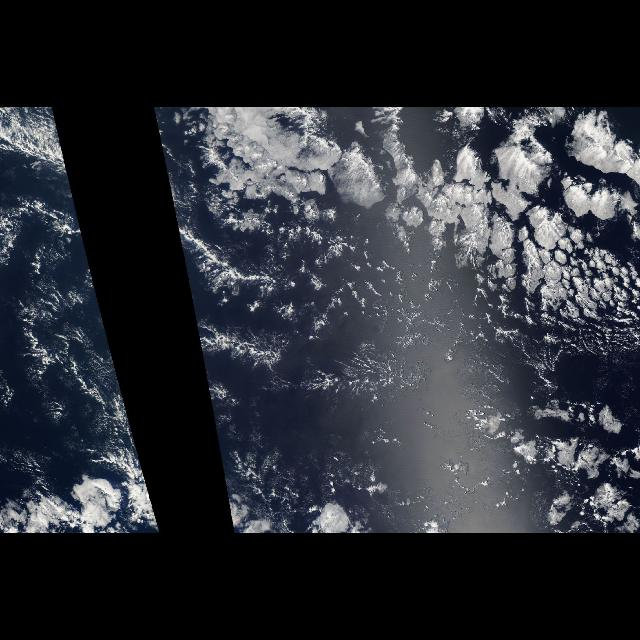Flower: (332, 107, 638, 350), (468, 387, 636, 533)
Gravel: (22, 292, 110, 406), (302, 343, 442, 407)
